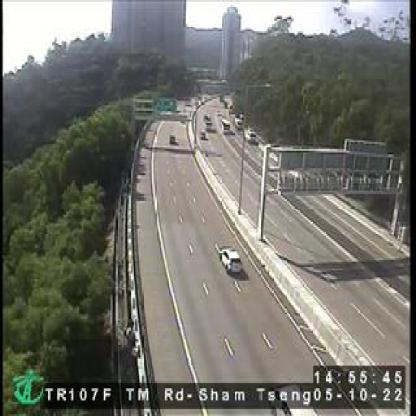Car: (217, 246, 241, 272), (243, 127, 256, 142), (220, 119, 231, 134), (165, 134, 176, 146), (198, 130, 206, 142)
